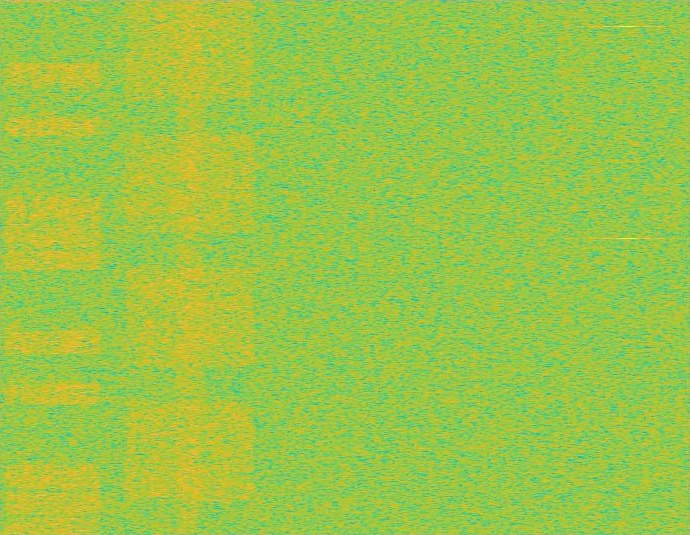5G: (121, 0, 259, 534)
DSSS: (174, 0, 205, 534)
LTE: (1, 0, 104, 534)
Radar: (620, 0, 634, 534)
